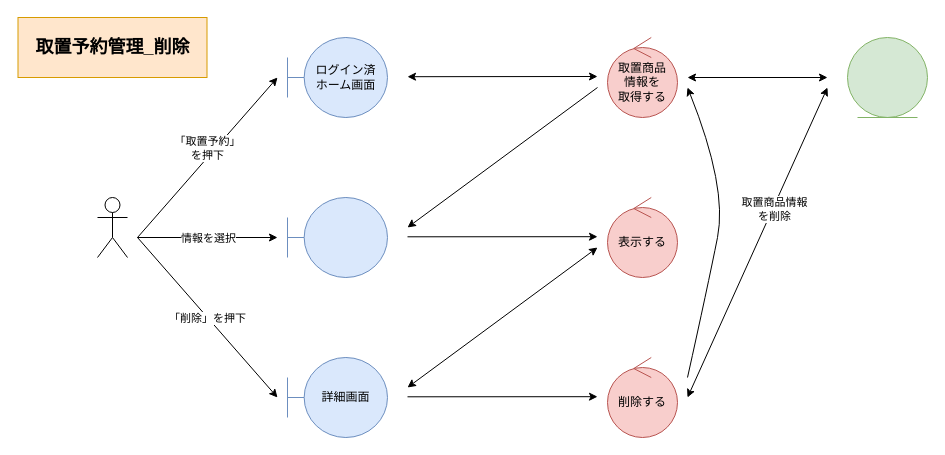
This 945x455 diagram has some shape labels left out. Here are the shapes that lost their labels. From the top down, the centre of each, then its label:
At (x=887, y=77): "取置商品 情報".
At (x=112, y=227): "正規社員 非正規社員".
At (x=337, y=237): "取置予約 一覧画面".
